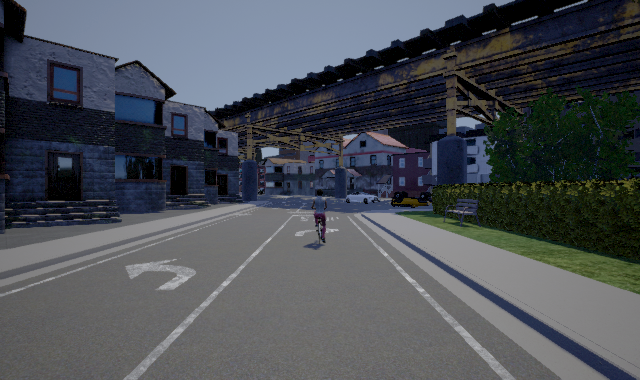bike: (307, 193, 335, 252)
vehicle: (391, 191, 433, 208), (345, 192, 380, 204)
